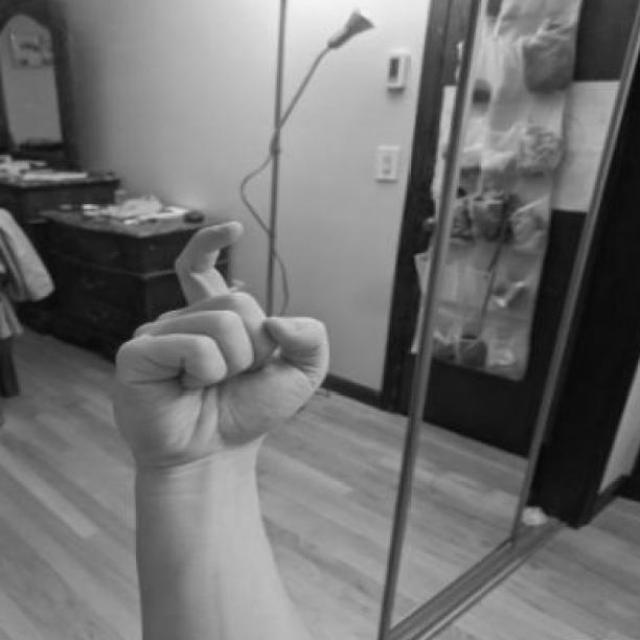X: (104, 213, 344, 510)
